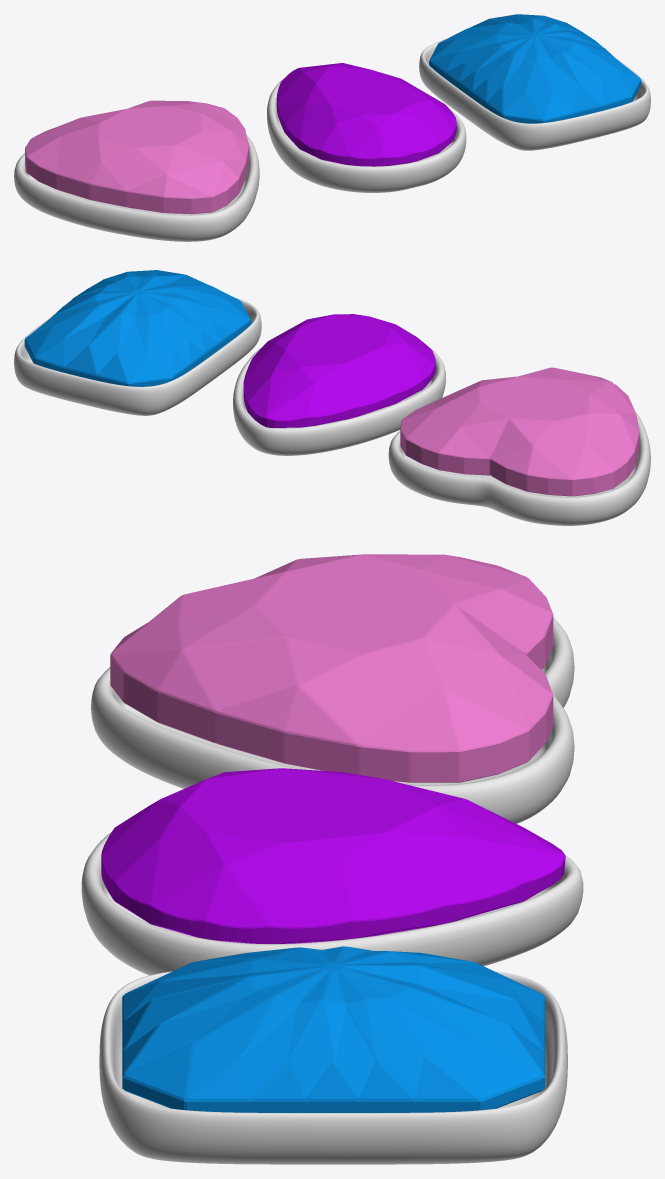
The model's file is Gem_Set.fbx.
3 renders of one model, top to bottom at view 1: azimuth 30°, elevation 25°; view 2: azimuth 150°, elevation 25°; view 3: azimuth 270°, elevation 25°, orthographic. The views are drawn at different scales.
Parts seen in each view (by area): view 1: Gem_Heart|Gem_Heart.obj|Dupli|, Gem_Rect|Gem_Rect.obj|Dupli|, Gem_Drop|Gem_Drop.obj|Dupli|, Gem_Heart|Gem_Heart_Mount.obj|Dupli|1, Gem_Rect|Gem_Rect_Mount.obj|Dupli|1, Gem_Drop|Gem_Drop_Mount|Dupli|1; view 2: Gem_Heart|Gem_Heart.obj|Dupli|, Gem_Rect|Gem_Rect.obj|Dupli|, Gem_Drop|Gem_Drop.obj|Dupli|, Gem_Heart|Gem_Heart_Mount.obj|Dupli|1, Gem_Rect|Gem_Rect_Mount.obj|Dupli|1, Gem_Drop|Gem_Drop_Mount|Dupli|1; view 3: Gem_Heart|Gem_Heart.obj|Dupli|, Gem_Rect|Gem_Rect.obj|Dupli|, Gem_Drop|Gem_Drop.obj|Dupli|, Gem_Rect|Gem_Rect_Mount.obj|Dupli|1, Gem_Drop|Gem_Drop_Mount|Dupli|1, Gem_Heart|Gem_Heart_Mount.obj|Dupli|1.
Part boxes in pixels (x1,y1,x2,y2): Gem_Heart|Gem_Heart.obj|Dupli|: (25, 100, 249, 214); Gem_Rect|Gem_Rect.obj|Dupli|: (429, 14, 640, 123); Gem_Drop|Gem_Drop.obj|Dupli|: (276, 63, 456, 166); Gem_Heart|Gem_Heart_Mount.obj|Dupli|1: (14, 134, 259, 241); Gem_Rect|Gem_Rect_Mount.obj|Dupli|1: (419, 39, 650, 150); Gem_Drop|Gem_Drop_Mount|Dupli|1: (267, 79, 466, 192); Gem_Heart|Gem_Heart.obj|Dupli|: (400, 367, 639, 496); Gem_Rect|Gem_Rect.obj|Dupli|: (24, 270, 250, 386); Gem_Drop|Gem_Drop.obj|Dupli|: (243, 314, 435, 427); Gem_Heart|Gem_Heart_Mount.obj|Dupli|1: (388, 412, 650, 525); Gem_Rect|Gem_Rect_Mount.obj|Dupli|1: (14, 297, 261, 415); Gem_Drop|Gem_Drop_Mount|Dupli|1: (233, 347, 445, 455); Gem_Heart|Gem_Heart.obj|Dupli|: (110, 554, 553, 782); Gem_Rect|Gem_Rect.obj|Dupli|: (122, 946, 544, 1112); Gem_Drop|Gem_Drop.obj|Dupli|: (101, 768, 565, 943); Gem_Rect|Gem_Rect_Mount.obj|Dupli|1: (99, 971, 567, 1164); Gem_Drop|Gem_Drop_Mount|Dupli|1: (81, 832, 583, 975); Gem_Heart|Gem_Heart_Mount.obj|Dupli|1: (91, 617, 574, 823).
Size of the model in its own units: 11.01 by 1.57 by 4.23.
